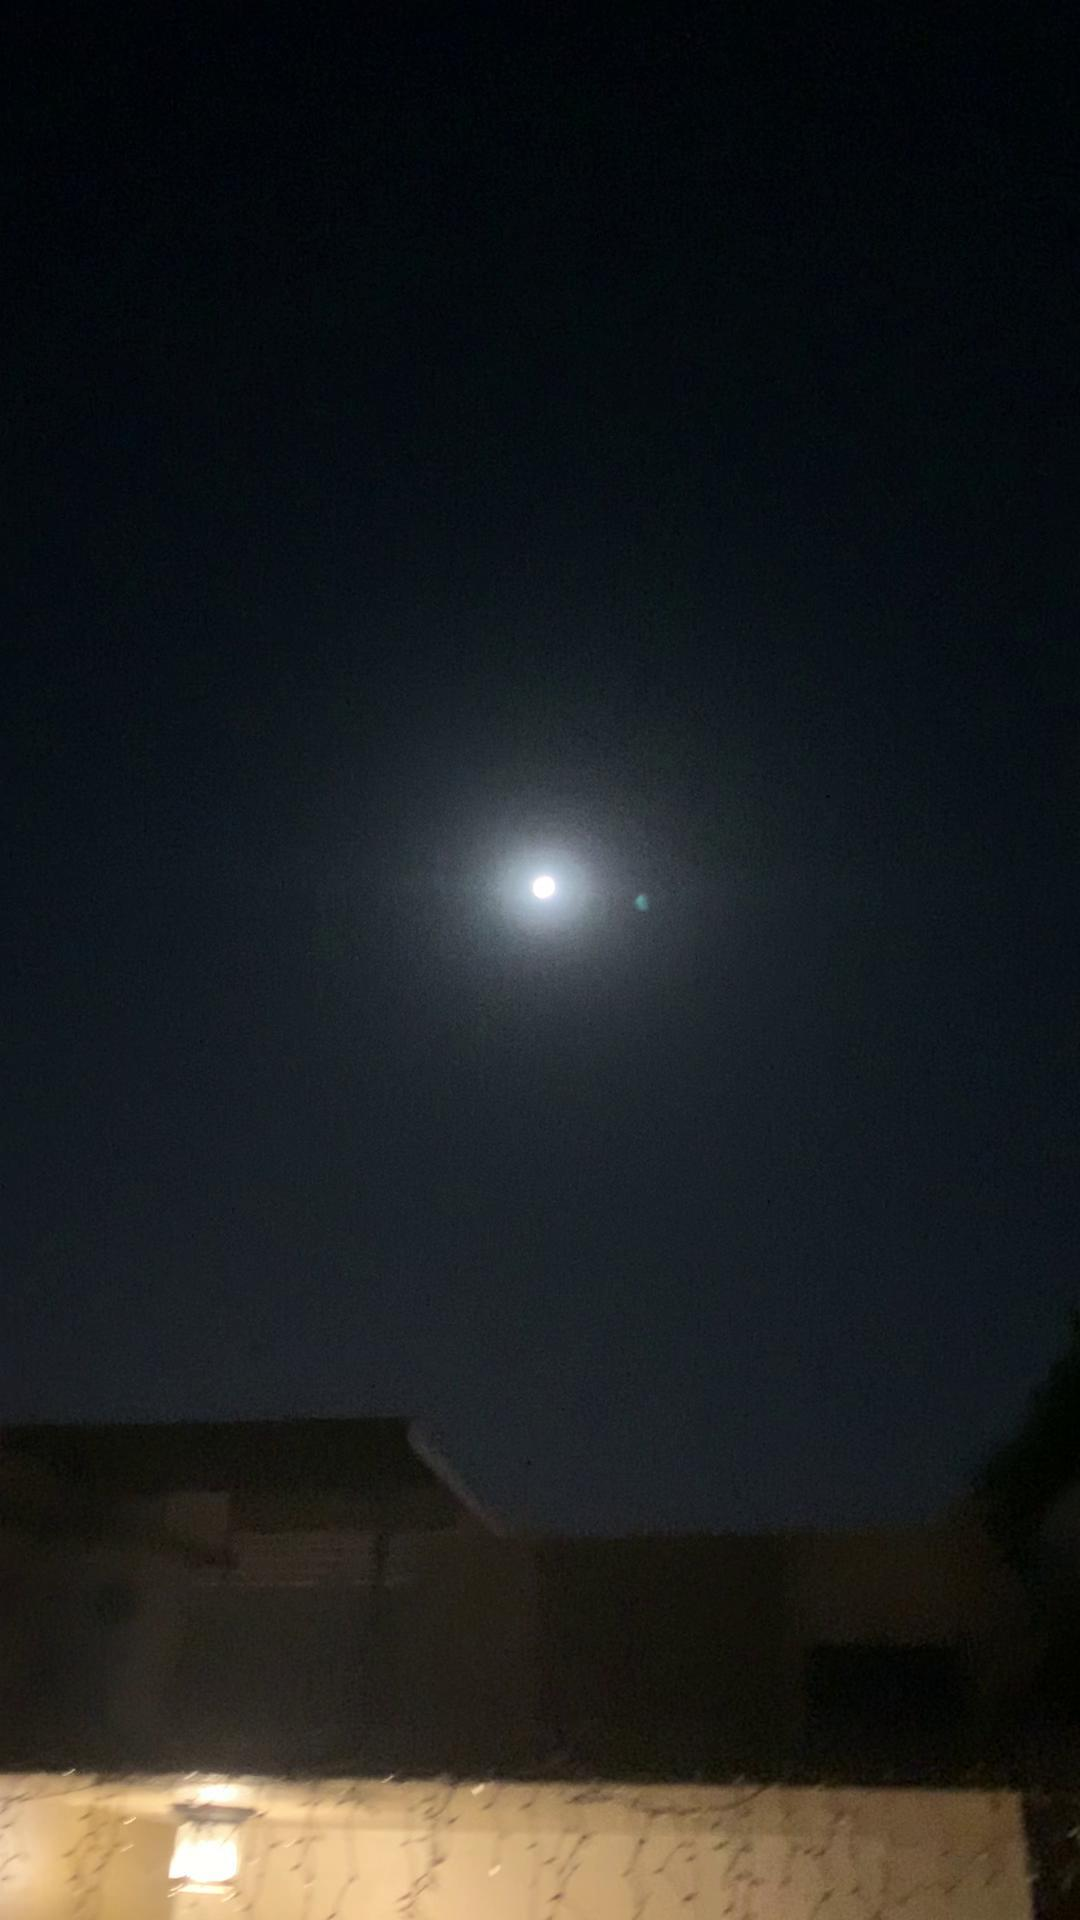moon: (505, 848, 592, 927)
